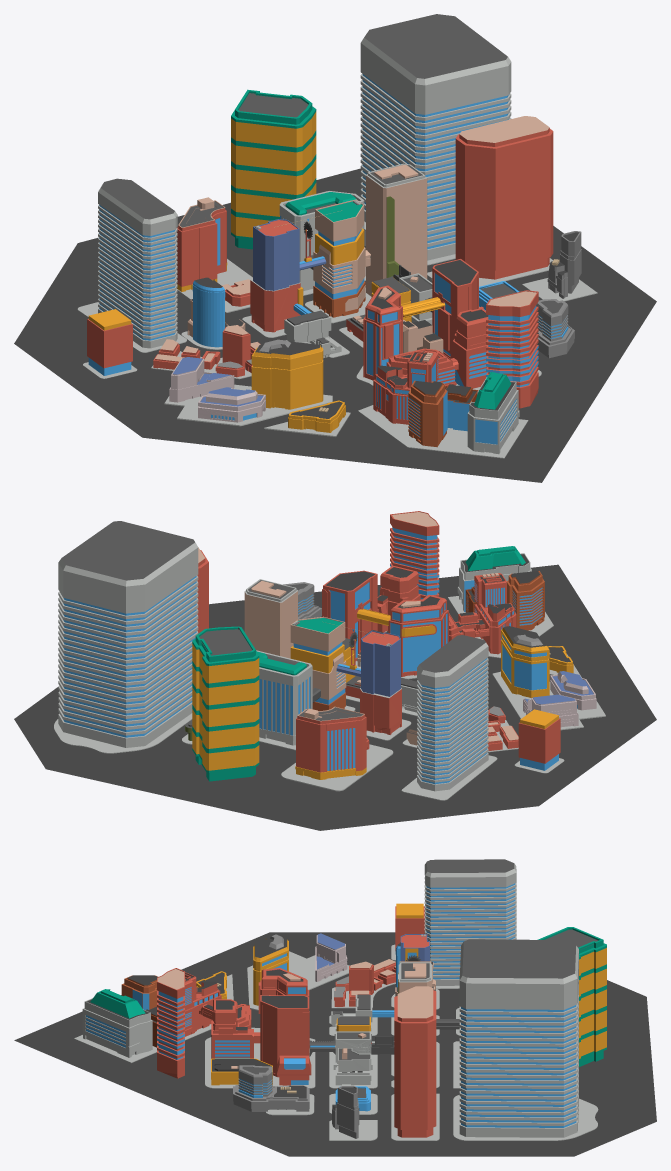
Rendered from city.FBX.
3 renders of one model, top to bottom at view 1: azimuth 30°, elevation 25°; view 2: azimuth 150°, elevation 25°; view 3: azimuth 270°, elevation 25°, orthographic. The views are drawn at different scales.
Visible parts, largest first — view 1: nha; view 2: nha; view 3: nha.
Part boxes in pixels (<box>): nha: <box>14,14,656,482</box>; nha: <box>14,511,656,830</box>; nha: <box>14,859,656,1156</box>.
Size of the model in its own units: 228 by 75.71 by 276.
1 material, 1 textured.
